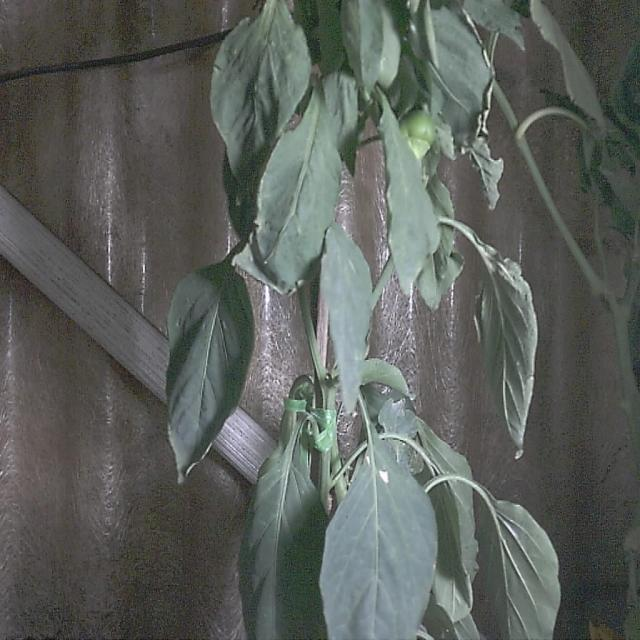Leaf: (320, 432, 437, 639), (234, 89, 340, 293), (167, 260, 253, 481), (210, 0, 310, 175), (379, 95, 439, 294), (479, 497, 559, 638), (320, 224, 371, 412)
